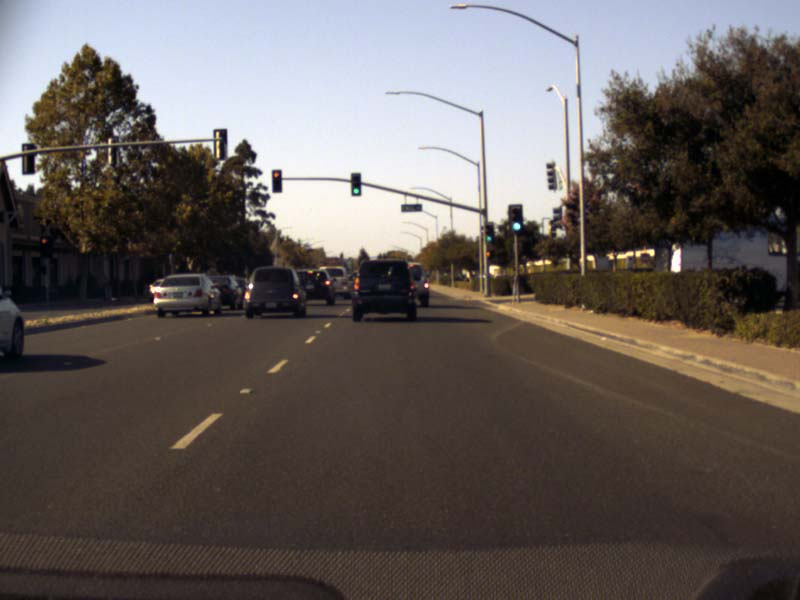Green: (509, 205, 522, 233), (351, 172, 360, 195), (485, 224, 492, 242)
Red: (272, 170, 281, 191), (41, 236, 49, 257)
